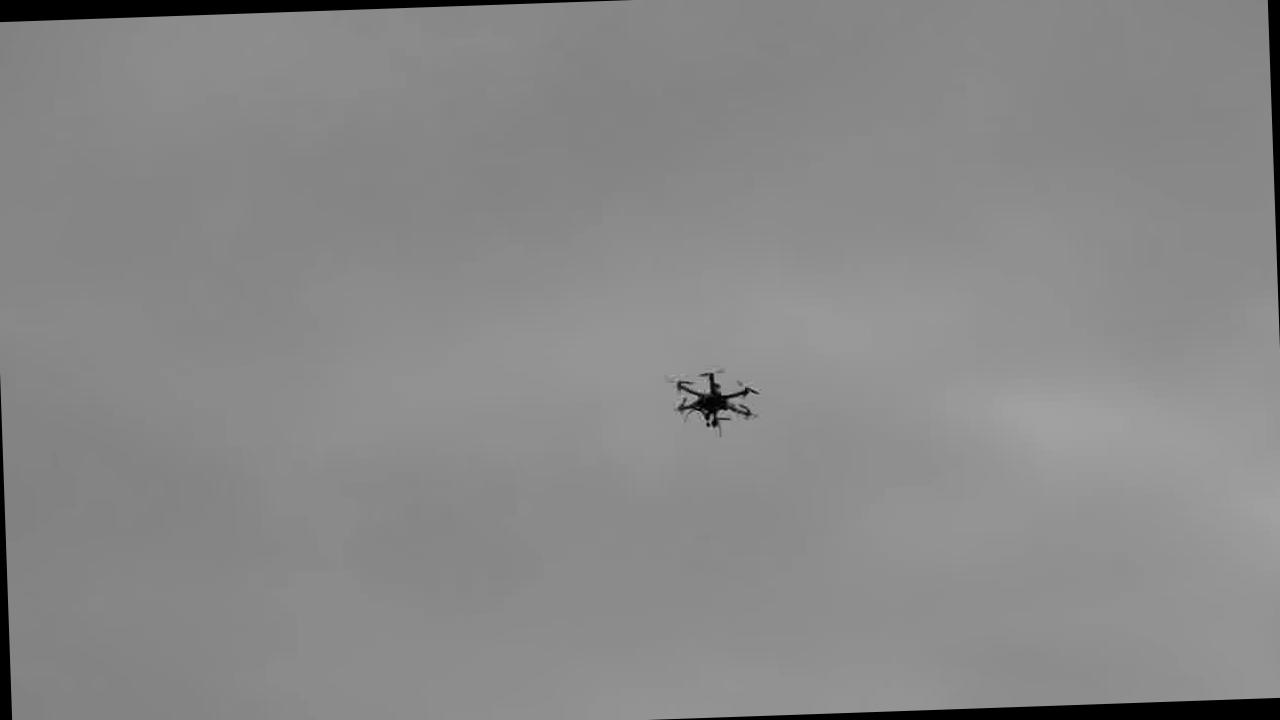drone: (665, 361, 767, 440)
